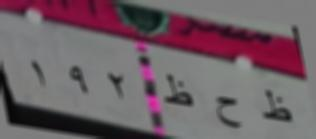1: (22, 56, 52, 93)
2: (102, 60, 132, 106)
7aa: (212, 88, 243, 133)
9: (63, 59, 92, 97)
Thaa: (257, 83, 296, 128), (160, 68, 196, 111)
